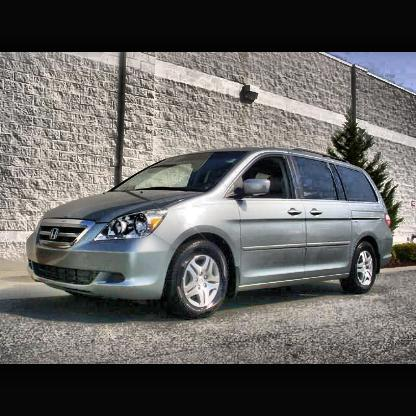Honda Odyssey Minivan 2007: (28, 149, 392, 321)
